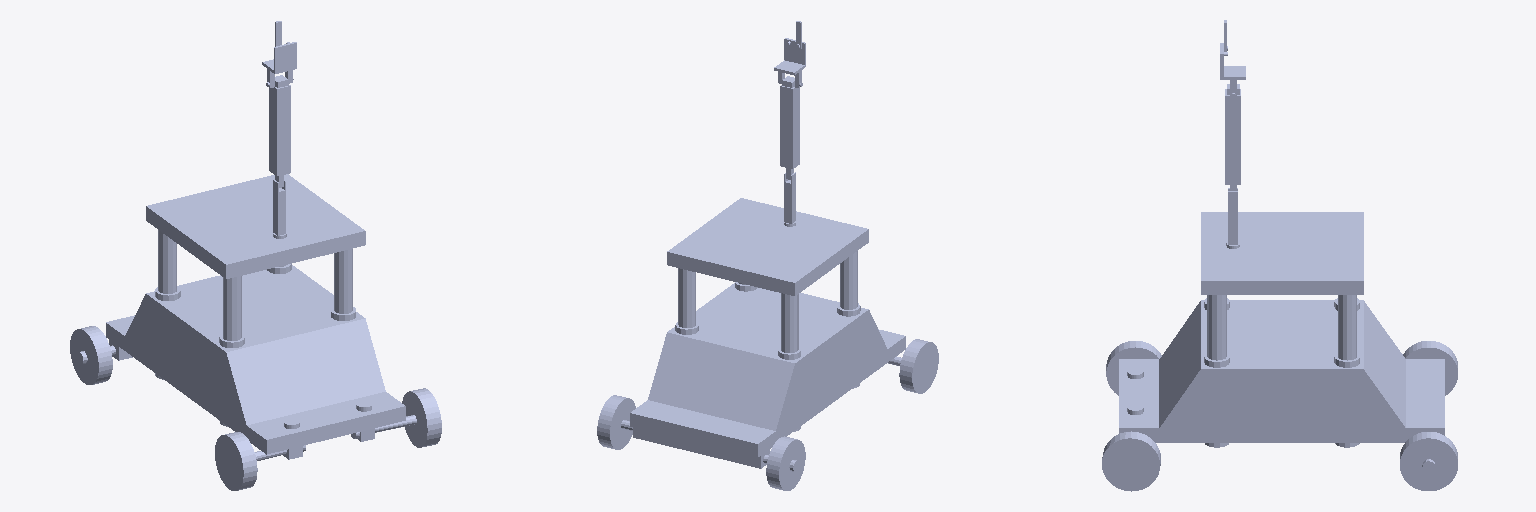
URDF robot description (robot):
<?xml version="1.0" encoding="utf-8"?>
<!-- This URDF was automatically created by SolidWorks to URDF Exporter! Originally created by [author] ([email redacted]) 
     Commit Version: 1.6.0-4-g7f85cfe  Build Version: 1.6.7995.38578
     For more information, please see http://wiki.ros.org/sw_urdf_exporter -->
<robot
  name="robot">
  <link name="dummy_link"></link>
  <link
    name="base_link">
    <inertial>
      <origin
        xyz="-1.00826967589747E-17 0.10737313904722 -0.00731313094674181"
        rpy="0 0 0" />
      <mass
        value="86.0247767757526" />
      <inertia
        ixx="4.79133565745257"
        ixy="-1.75382804254197E-17"
        ixz="-2.58072698137582E-16"
        iyy="6.06328850574316"
        iyz="-0.0726713739637632"
        izz="2.20371898087264" />
    </inertial>
    <visual>
      <origin
        xyz="0 0 0"
        rpy="0 0 0" />
      <geometry>
        <mesh
          filename="package://robot/meshes/base_link.STL" />
      </geometry>
      <material
        name="">
        <color
          rgba="0.792156862745098 0.819607843137255 0.933333333333333 1" />
      </material>
    </visual>
    <collision>
      <origin
        xyz="0 0 0"
        rpy="0 0 0" />
      <geometry>
        <mesh
          filename="package://robot/meshes/base_link.STL" />
      </geometry>
    </collision>
  </link>
  <joint name="DummyJoint" type="fixed">
    <parent
      link="dummy_link" />
    <child
      link="base_link" />
  </joint>
  <link
    name="front_left_steering_block">
    <inertial>
      <origin
        xyz="0 0.0056220532371112 0"
        rpy="0 0 0" />
      <mass
        value="0.181941366846315" />
      <inertia
        ixx="0.000259566561927885"
        ixy="7.58556873903355E-21"
        ixz="-5.0821976835258E-21"
        iyy="6.45024417920556E-05"
        iyz="-5.9209588369032E-20"
        izz="0.000254191493247134" />
    </inertial>
    <visual>
      <origin
        xyz="0 0 0"
        rpy="0 0 0" />
      <geometry>
        <mesh
          filename="package://robot/meshes/front_left_steering_block.STL" />
      </geometry>
      <material
        name="">
        <color
          rgba="0.792156862745098 0.819607843137255 0.933333333333333 1" />
      </material>
    </visual>
    <collision>
      <origin
        xyz="0 0 0"
        rpy="0 0 0" />
      <geometry>
        <mesh
          filename="package://robot/meshes/front_left_steering_block.STL" />
      </geometry>
    </collision>
  </link>
  <joint
    name="front_left_steering_block_joint"
    type="revolute">
    <origin
      xyz="0.13 -0.45 0"
      rpy="1.5708 0 -0.061939" />
    <parent
      link="base_link" />
    <child
      link="front_left_steering_block" />
    <axis
      xyz="0 1 0" />
    <limit
      lower="-1"
      upper="1"
      effort="10"
      velocity="100" />
  </joint>
  <link
    name="front_left_wheel">
    <inertial>
      <origin
        xyz="-0.184605263157895 1.42247325030098E-16 1.11022302462516E-16"
        rpy="0 0 0" />
      <mass
        value="1.43256625003695" />
      <inertia
        ixx="0.00517267157404377"
        ixy="9.01666572352203E-19"
        ixz="8.67361737988404E-19"
        iyy="0.00621135341120643"
        iyz="3.3881317890172E-20"
        izz="0.00621135341120643" />
    </inertial>
    <visual>
      <origin
        xyz="0 0 0"
        rpy="0 0 0" />
      <geometry>
        <mesh
          filename="package://robot/meshes/front_left_wheel.STL" />
      </geometry>
      <material
        name="">
        <color
          rgba="0.792156862745098 0.819607843137255 0.933333333333333 1" />
      </material>
    </visual>
    <collision>
      <origin
        xyz="0 0 0"
        rpy="0 0 0" />
      <geometry>
        <mesh
          filename="package://robot/meshes/front_left_wheel.STL" />
      </geometry>
    </collision>
  </link>
  <joint
    name="front_left_wheel_joint"
    type="revolute">
    <origin
      xyz="0 -0.025 0"
      rpy="3.1278 0 3.1416" />
    <parent
      link="front_left_steering_block" />
    <child
      link="front_left_wheel" />
    <axis
      xyz="1 0 0" />
    <limit
      lower="-1000000"
      upper="2000000"
      effort="10"
      velocity="100" />
  </joint>
  <link
    name="front_right_steering_block">
    <inertial>
      <origin
        xyz="-2.77555756156289E-17 0.00562205323711119 0"
        rpy="0 0 0" />
      <mass
        value="0.181941366846315" />
      <inertia
        ixx="0.000259566561927885"
        ixy="-5.20932311851603E-20"
        ixz="-5.08784456984083E-21"
        iyy="6.45024417920556E-05"
        iyz="-1.12309171155158E-20"
        izz="0.000254191493247134" />
    </inertial>
    <visual>
      <origin
        xyz="0 0 0"
        rpy="0 0 0" />
      <geometry>
        <mesh
          filename="package://robot/meshes/front_right_steering_block.STL" />
      </geometry>
      <material
        name="">
        <color
          rgba="0.792156862745098 0.819607843137255 0.933333333333333 1" />
      </material>
    </visual>
    <collision>
      <origin
        xyz="0 0 0"
        rpy="0 0 0" />
      <geometry>
        <mesh
          filename="package://robot/meshes/front_right_steering_block.STL" />
      </geometry>
    </collision>
  </link>
  <joint
    name="front_right_steering_block_joint"
    type="revolute">
    <origin
      xyz="-0.13 -0.45 0"
      rpy="1.5708 0 0" />
    <parent
      link="base_link" />
    <child
      link="front_right_steering_block" />
    <axis
      xyz="0 1 0" />
    <limit
      lower="-1"
      upper="1"
      effort="10"
      velocity="100" />
  </joint>
  <link
    name="front_right_wheel">
    <inertial>
      <origin
        xyz="-0.184605263157895 0 0"
        rpy="0 0 0" />
      <mass
        value="1.43256625003695" />
      <inertia
        ixx="0.00517267157404376"
        ixy="0"
        ixz="-1.78909698551451E-21"
        iyy="0.00621135341120644"
        iyz="4.57717685043609E-35"
        izz="0.00621135341120644" />
    </inertial>
    <visual>
      <origin
        xyz="0 0 0"
        rpy="0 0 0" />
      <geometry>
        <mesh
          filename="package://robot/meshes/front_right_wheel.STL" />
      </geometry>
      <material
        name="">
        <color
          rgba="0.792156862745098 0.819607843137255 0.933333333333333 1" />
      </material>
    </visual>
    <collision>
      <origin
        xyz="0 0 0"
        rpy="0 0 0" />
      <geometry>
        <mesh
          filename="package://robot/meshes/front_right_wheel.STL" />
      </geometry>
    </collision>
  </link>
  <joint
    name="front_right_wheel_joint"
    type="revolute">
    <origin
      xyz="0 -0.025 0"
      rpy="0 0 0" />
    <parent
      link="front_right_steering_block" />
    <child
      link="front_right_wheel" />
    <axis
      xyz="1 0 0" />
    <limit
      lower="-1000000"
      upper="2000000"
      effort="10"
      velocity="100" />
  </joint>
  <link
    name="rear_axle">
    <inertial>
      <origin
        xyz="0 3.46944695195361E-17 0"
        rpy="0 0 0" />
      <mass
        value="0.539568538254047" />
      <inertia
        ixx="6.40001328398496E-05"
        ixy="3.44295563992704E-36"
        ixz="7.59240148123743E-20"
        iyy="0.0260693039948772"
        iyz="9.8148481904399E-38"
        izz="0.0260693039948772" />
    </inertial>
    <visual>
      <origin
        xyz="0 0 0"
        rpy="0 0 0" />
      <geometry>
        <mesh
          filename="package://robot/meshes/rear_axle.STL" />
      </geometry>
      <material
        name="">
        <color
          rgba="0.792156862745098 0.819607843137255 0.933333333333333 1" />
      </material>
    </visual>
    <collision>
      <origin
        xyz="0 0 0"
        rpy="0 0 0" />
      <geometry>
        <mesh
          filename="package://robot/meshes/rear_axle.STL" />
      </geometry>
    </collision>
  </link>
  <joint
    name="rear_axle_joint"
    type="revolute">
    <origin
      xyz="0 0.45 -0.025"
      rpy="1.5708 0 0" />
    <parent
      link="base_link" />
    <child
      link="rear_axle" />
    <axis
      xyz="1 0 0" />
    <limit
      lower="-10000000"
      upper="20000000"
      effort="10"
      velocity="100" />
  </joint>
  <link
    name="rear_left_wheel">
    <inertial>
      <origin
        xyz="0.025 -4.85722573273506E-17 0"
        rpy="0 0 0" />
      <mass
        value="1.23700210735098" />
      <inertia
        ixx="0.00514902127184846"
        ixy="-5.68589678682655E-36"
        ixz="1.41172157875717E-21"
        iyy="0.00283221940828902"
        iyz="-1.51850677994624E-38"
        izz="0.00283221940828902" />
    </inertial>
    <visual>
      <origin
        xyz="0 0 0"
        rpy="0 0 0" />
      <geometry>
        <mesh
          filename="package://robot/meshes/rear_left_wheel.STL" />
      </geometry>
      <material
        name="">
        <color
          rgba="0.792156862745098 0.819607843137255 0.933333333333333 1" />
      </material>
    </visual>
    <collision>
      <origin
        xyz="0 0 0"
        rpy="0 0 0" />
      <geometry>
        <mesh
          filename="package://robot/meshes/rear_left_wheel.STL" />
      </geometry>
    </collision>
  </link>
  <joint
    name="rear_left_wheel_joint"
    type="fixed">
    <origin
      xyz="0.305 0 0"
      rpy="0 0 0" />
    <parent
      link="rear_axle" />
    <child
      link="rear_left_wheel" />
    <axis
      xyz="0 0 0" />
  </joint>
  <link
    name="rear_right_wheel">
    <inertial>
      <origin
        xyz="-0.0250000000000001 3.46944695195361E-18 -1.11022302462516E-16"
        rpy="0 0 0" />
      <mass
        value="1.23700210735098" />
      <inertia
        ixx="0.00514902127184846"
        ixy="-2.93873587705564E-36"
        ixz="-1.41172157875718E-21"
        iyy="0.00283221940828902"
        iyz="-3.5684524883468E-36"
        izz="0.00283221940828902" />
    </inertial>
    <visual>
      <origin
        xyz="0 0 0"
        rpy="0 0 0" />
      <geometry>
        <mesh
          filename="package://robot/meshes/rear_right_wheel.STL" />
      </geometry>
      <material
        name="">
        <color
          rgba="0.792156862745098 0.819607843137255 0.933333333333333 1" />
      </material>
    </visual>
    <collision>
      <origin
        xyz="0 0 0"
        rpy="0 0 0" />
      <geometry>
        <mesh
          filename="package://robot/meshes/rear_right_wheel.STL" />
      </geometry>
    </collision>
  </link>
  <joint
    name="rear_right_wheel_joint"
    type="fixed">
    <origin
      xyz="-0.305 0 0"
      rpy="0 0 0" />
    <parent
      link="rear_axle" />
    <child
      link="rear_right_wheel" />
    <axis
      xyz="0 0 0" />
  </joint>
  <link
    name="arm_frame">
    <inertial>
      <origin
        xyz="-0.2 0.42782987616925 -0.200283536076851"
        rpy="0 0 0" />
      <mass
        value="18.6975769073693" />
      <inertia
        ixx="1.00946239108223"
        ixy="-7.2442474447099E-18"
        ixz="8.43574579911179E-18"
        iyy="1.02175252506653"
        iyz="0.000515141348358039"
        izz="1.01025910987149" />
    </inertial>
    <visual>
      <origin
        xyz="0 0 0"
        rpy="0 0 0" />
      <geometry>
        <mesh
          filename="package://robot/meshes/arm_frame.STL" />
      </geometry>
      <material
        name="">
        <color
          rgba="0.792156862745098 0.819607843137255 0.933333333333333 1" />
      </material>
    </visual>
    <collision>
      <origin
        xyz="0 0 0"
        rpy="0 0 0" />
      <geometry>
        <mesh
          filename="package://robot/meshes/arm_frame.STL" />
      </geometry>
    </collision>
  </link>
  <joint
    name="arm_frame_joint"
    type="fixed">
    <origin
      xyz="0.2 -0.2 0"
      rpy="1.5708 0 0" />
    <parent
      link="base_link" />
    <child
      link="arm_frame" />
    <axis
      xyz="0 0 0" />
  </joint>
  <link
    name="arm_base">
    <inertial>
      <origin
        xyz="-4.94053268413586E-19 0.116973617488641 2.77555756156289E-17"
        rpy="0 0 0" />
      <mass
        value="0.207617251235193" />
      <inertia
        ixx="0.000965466041453994"
        ixy="1.1491918453231E-20"
        ixz="-1.70588730989799E-21"
        iyy="3.20823922414334E-05"
        iyz="-7.76921472739739E-21"
        izz="0.000966258583854511" />
    </inertial>
    <visual>
      <origin
        xyz="0 0 0"
        rpy="0 0 0" />
      <geometry>
        <mesh
          filename="package://robot/meshes/arm_base.STL" />
      </geometry>
      <material
        name="">
        <color
          rgba="0.792156862745098 0.819607843137255 0.933333333333333 1" />
      </material>
    </visual>
    <collision>
      <origin
        xyz="0 0 0"
        rpy="0 0 0" />
      <geometry>
        <mesh
          filename="package://robot/meshes/arm_base.STL" />
      </geometry>
    </collision>
  </link>
  <joint
    name="arm_base_joint"
    type="revolute">
    <origin
      xyz="-0.2 0.49 -0.05"
      rpy="0 0 0" />
    <parent
      link="arm_frame" />
    <child
      link="arm_base" />
    <axis
      xyz="0 1 0" />
    <limit
      lower="-3.15"
      upper="3.15"
      effort="1"
      velocity="0.5" />
  </joint>
  <link
    name="arm_middle">
    <inertial>
      <origin
        xyz="-7.88829977027639E-18 0.193357409757848 0"
        rpy="0 0 0" />
      <mass
        value="0.805337942194439" />
      <inertia
        ixx="0.0072830660307654"
        ixy="4.45124117755568E-20"
        ixz="-7.43883292584569E-21"
        iyy="0.000328476716675587"
        iyz="6.28963617989045E-20"
        izz="0.00728910674484271" />
    </inertial>
    <visual>
      <origin
        xyz="0 0 0"
        rpy="0 0 0" />
      <geometry>
        <mesh
          filename="package://robot/meshes/arm_middle.STL" />
      </geometry>
      <material
        name="">
        <color
          rgba="0.792156862745098 0.819607843137255 0.933333333333333 1" />
      </material>
    </visual>
    <collision>
      <origin
        xyz="0 0 0"
        rpy="0 0 0" />
      <geometry>
        <mesh
          filename="package://robot/meshes/arm_middle.STL" />
      </geometry>
    </collision>
  </link>
  <joint
    name="arm_middle_joint"
    type="revolute">
    <origin
      xyz="0 0.24 0"
      rpy="0 0 0" />
    <parent
      link="arm_base" />
    <child
      link="arm_middle" />
    <axis
      xyz="1 0 0" />
    <limit
      lower="-2.09"
      upper="2.09"
      effort="10"
      velocity="0.5" />
  </joint>
  <link
    name="arm_end">
    <inertial>
      <origin
        xyz="-6.93889390390723E-18 0.0671221673874416 0.0140027305626257"
        rpy="0 0 0" />
      <mass
        value="0.464981747704247" />
      <inertia
        ixx="0.000290034092105565"
        ixy="4.36787303173571E-20"
        ixz="5.63262565110841E-21"
        iyy="0.00018924621294992"
        iyz="-7.80600520509321E-05"
        izz="0.000312395084022229" />
    </inertial>
    <visual>
      <origin
        xyz="0 0 0"
        rpy="0 0 0" />
      <geometry>
        <mesh
          filename="package://robot/meshes/arm_end.STL" />
      </geometry>
      <material
        name="">
        <color
          rgba="0.792156862745098 0.819607843137255 0.933333333333333 1" />
      </material>
    </visual>
    <collision>
      <origin
        xyz="0 0 0"
        rpy="0 0 0" />
      <geometry>
        <mesh
          filename="package://robot/meshes/arm_end.STL" />
      </geometry>
    </collision>
  </link>
  <joint
    name="arm_end_joint"
    type="revolute">
    <origin
      xyz="0 0.35 0"
      rpy="0 0 0" />
    <parent
      link="arm_middle" />
    <child
      link="arm_end" />
    <axis
      xyz="1 0 0" />
    <limit
      lower="-2.35"
      upper="2.35"
      effort="1"
      velocity="0.5" />
  </joint>
  <link
    name="left_end_eff">
    <inertial>
      <origin
        xyz="-3.46944695195361E-18 0.0416350027340173 0.005"
        rpy="0 0 0" />
      <mass
        value="0.192146018366026" />
      <inertia
        ixx="1.55138774229034E-05"
        ixy="4.89651648322603E-23"
        ixz="-3.67894643424117E-23"
        iyy="8.21879610117122E-07"
        iyz="2.58493941422821E-23"
        izz="1.60155136690771E-05" />
    </inertial>
    <visual>
      <origin
        xyz="0 0 0"
        rpy="0 0 0" />
      <geometry>
        <mesh
          filename="package://robot/meshes/left_end_eff.STL" />
      </geometry>
      <material
        name="">
        <color
          rgba="0.792156862745098 0.819607843137255 0.933333333333333 1" />
      </material>
    </visual>
    <collision>
      <origin
        xyz="0 0 0"
        rpy="0 0 0" />
      <geometry>
        <mesh
          filename="package://robot/meshes/left_end_eff.STL" />
      </geometry>
    </collision>
  </link>
  <joint
    name="left_end_eff_joint"
    type="revolute">
    <origin
      xyz="0.02 0.13 0.02"
      rpy="0 0 0" />
    <parent
      link="arm_end" />
    <child
      link="left_end_eff" />
    <axis
      xyz="0 0 1" />
    <limit
      lower="-0.5"
      upper="0.5"
      effort="0.1"
      velocity="0.01" />
  </joint>
  <link
    name="right_end_eff">
    <inertial>
      <origin
        xyz="-3.46944695195361E-18 0.0416350027340173 0.005"
        rpy="0 0 0" />
      <mass
        value="0.192146018366026" />
      <inertia
        ixx="1.55138774229034E-05"
        ixy="1.13235491055648E-22"
        ixz="-3.67894643424117E-23"
        iyy="8.21879610117122E-07"
        iyz="2.58493941422821E-23"
        izz="1.60155136690771E-05" />
    </inertial>
    <visual>
      <origin
        xyz="0 0 0"
        rpy="0 0 0" />
      <geometry>
        <mesh
          filename="package://robot/meshes/right_end_eff.STL" />
      </geometry>
      <material
        name="">
        <color
          rgba="0.792156862745098 0.819607843137255 0.933333333333333 1" />
      </material>
    </visual>
    <collision>
      <origin
        xyz="0 0 0"
        rpy="0 0 0" />
      <geometry>
        <mesh
          filename="package://robot/meshes/right_end_eff.STL" />
      </geometry>
    </collision>
  </link>
  <joint
    name="right_end_eff_joint"
    type="revolute">
    <origin
      xyz="-0.02 0.13 0.02"
      rpy="0 0 0" />
    <parent
      link="arm_end" />
    <child
      link="right_end_eff" />
    <axis
      xyz="0 0 1" />
    <limit
      lower="-0.5"
      upper="0.5"
      effort="0.1"
      velocity="0.01" />
  </joint>
  <transmission name="front_left_steering_transmission">
    <type>transmission_interface/SimpleTransmission</type>
    <joint name="front_left_steering_block_joint">
      <hardwareInterface>hardware_interface/EffortJointInterface</hardwareInterface>
    </joint>
    <actuator name="front_left_steering_motor">
      <mechanicalReduction>5</mechanicalReduction>
      <hardwareInterface>hardware_interface/EffortJointInterface</hardwareInterface>
    </actuator>
  </transmission>
  <transmission name="front_right_steering_transmission">
    <type>transmission_interface/SimpleTransmission</type>
    <joint name="front_right_steering_block_joint">
      <hardwareInterface>hardware_interface/EffortJointInterface</hardwareInterface>
    </joint>
    <actuator name="front_right_steering_motor">
      <mechanicalReduction>5</mechanicalReduction>
      <hardwareInterface>hardware_interface/EffortJointInterface</hardwareInterface>
    </actuator>
  </transmission>
  <transmission name="rear_axle_transmission">
    <type>transmission_interface/SimpleTransmission</type>
    <joint name="rear_axle_joint">
      <hardwareInterface>hardware_interface/VelocityJointInterface</hardwareInterface>
    </joint>
    <actuator name="rear_axle_motor">
      <mechanicalReduction>5</mechanicalReduction>
      <hardwareInterface>hardware_interface/VelocityJointInterface</hardwareInterface>
    </actuator>
  </transmission>
  <transmission name="arm_base_transmission">
    <type>transmission_interface/SimpleTransmission</type>
    <joint name="arm_base_joint">
      <hardwareInterface>hardware_interface/EffortJointInterface</hardwareInterface>
    </joint>
    <actuator name="arm_base_motor">
      <mechanicalReduction>5</mechanicalReduction>
      <hardwareInterface>hardware_interface/EffortJointInterface</hardwareInterface>
    </actuator>
  </transmission>
  <transmission name="arm_middle_transmission">
    <type>transmission_interface/SimpleTransmission</type>
    <joint name="arm_middle_joint">
      <hardwareInterface>hardware_interface/EffortJointInterface</hardwareInterface>
    </joint>
    <actuator name="arm_middle_motor">
      <mechanicalReduction>5</mechanicalReduction>
      <hardwareInterface>hardware_interface/EffortJointInterface</hardwareInterface>
    </actuator>
  </transmission>
  <transmission name="arm_end_transmission">
    <type>transmission_interface/SimpleTransmission</type>
    <joint name="arm_end_joint">
      <hardwareInterface>hardware_interface/EffortJointInterface</hardwareInterface>
    </joint>
    <actuator name="arm_end_motor">
      <mechanicalReduction>5</mechanicalReduction>
      <hardwareInterface>hardware_interface/EffortJointInterface</hardwareInterface>
    </actuator>
  </transmission>
  <transmission name="left_end_eff_transmission">
    <type>transmission_interface/SimpleTransmission</type>
    <joint name="left_end_eff_joint">
      <hardwareInterface>hardware_interface/EffortJointInterface</hardwareInterface>
    </joint>
    <actuator name="left_end_eff_motor">
      <mechanicalReduction>5</mechanicalReduction>
      <hardwareInterface>hardware_interface/EffortJointInterface</hardwareInterface>
    </actuator>
  </transmission>
  <transmission name="right_end_eff_transmission">
    <type>transmission_interface/SimpleTransmission</type>
    <joint name="right_end_eff_joint">
      <hardwareInterface>hardware_interface/EffortJointInterface</hardwareInterface>
    </joint>
    <actuator name="right_end_eff_motor">
      <mechanicalReduction>5</mechanicalReduction>
      <hardwareInterface>hardware_interface/EffortJointInterface</hardwareInterface>
    </actuator>
  </transmission>
</robot>

--- What the picture shows (computed from the rendered views, not written in the file) ---
Views: 3 orthographic renders of the robot side by side, from view 1: azimuth 30°, elevation 25°; view 2: azimuth 150°, elevation 25°; view 3: azimuth 270°, elevation 25°.
Model robot with 15 links and 14 joints (10 revolute, 4 fixed), rooted at dummy_link, posed every joint at zero.
Visible links, largest first — view 1: base_link, arm_frame, front_right_wheel, arm_middle, front_left_wheel, rear_right_wheel, arm_end, arm_base; view 2: base_link, arm_frame, arm_middle, front_right_wheel, rear_right_wheel, rear_left_wheel, arm_end, arm_base; view 3: base_link, arm_frame, front_left_wheel, rear_left_wheel, arm_middle, rear_right_wheel, front_right_wheel, arm_base, arm_end.
Boxes of the visible links, box(x1,y1,x2,y2) form: base_link: box(106, 265, 405, 454); arm_frame: box(146, 174, 365, 426); front_right_wheel: box(215, 432, 305, 490); arm_middle: box(266, 75, 293, 187); front_left_wheel: box(351, 388, 441, 447); rear_right_wheel: box(70, 326, 112, 384); arm_end: box(262, 42, 296, 87); arm_base: box(273, 180, 286, 238); base_link: box(630, 283, 905, 468); arm_frame: box(667, 198, 868, 431); arm_middle: box(780, 76, 802, 179); front_right_wheel: box(888, 339, 938, 393); rear_right_wheel: box(766, 436, 805, 490); rear_left_wheel: box(597, 395, 635, 449); arm_end: box(774, 38, 805, 87); arm_base: box(784, 172, 795, 226); base_link: box(1119, 300, 1444, 442); arm_frame: box(1201, 212, 1363, 447); front_left_wheel: box(1102, 431, 1160, 491); rear_left_wheel: box(1400, 432, 1457, 490); arm_middle: box(1225, 84, 1240, 190); rear_right_wheel: box(1403, 341, 1457, 395); front_right_wheel: box(1106, 341, 1161, 395); arm_base: box(1226, 188, 1239, 248); arm_end: box(1220, 43, 1245, 97).
Bounding box of the posed robot: 0.74 × 1.09 × 1.42 m (x, y, z).
13 mesh visuals loaded from 14 distinct referenced files (13 binary STL); not drawn: 1 (reference not matched to a file when rendering).